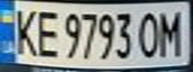3: (112, 9, 136, 60)
7: (78, 9, 96, 60)
9: (57, 8, 81, 60), (97, 9, 118, 61)
E: (30, 7, 60, 58)
K: (6, 4, 39, 56)
M: (154, 7, 187, 57)
O: (136, 8, 163, 59)
